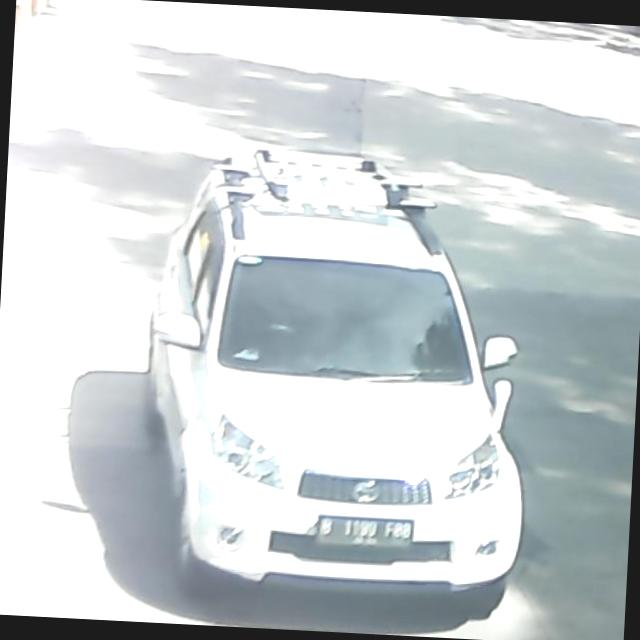plate: (316, 510, 420, 554)
